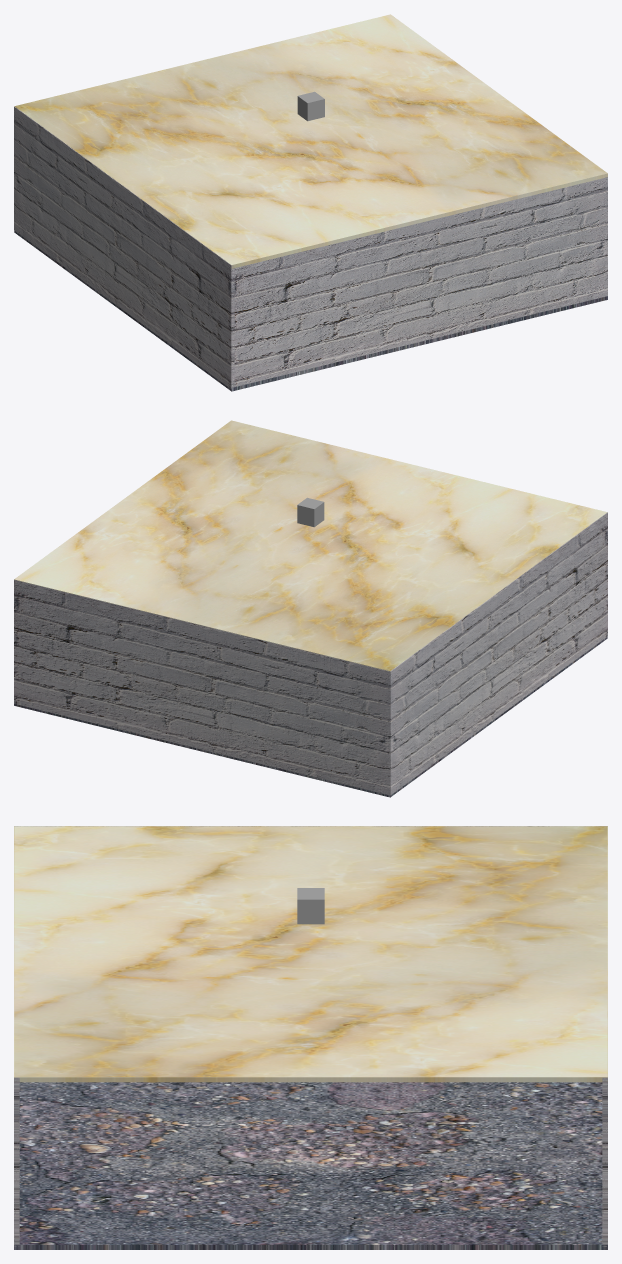
Rendered from game.fbx.
3 views of the same model, one above another, from view 1: azimuth 30°, elevation 25°; view 2: azimuth 150°, elevation 25°; view 3: azimuth 270°, elevation 25° (orthographic). The views are drawn at different scales.
Visible parts, largest first — view 1: testRoomRoof, testRoomSouthWall, testRoomEastWall, testRoomFloor, characterMesh; view 2: testRoomRoof, testRoomNorthWall, testRoomEastWall, testRoomFloor, characterMesh; view 3: testRoomRoof, testRoomFloor, characterMesh, testRoomNorthWall, testRoomSouthWall, testRoomEastWall.
Boxes of the visible parts, x1,y1,x2,y2 form: testRoomRoof: (14, 14, 607, 268); testRoomSouthWall: (234, 177, 607, 386); testRoomEastWall: (14, 106, 234, 389); testRoomFloor: (14, 231, 607, 391); characterMesh: (297, 91, 324, 121); testRoomRoof: (14, 420, 607, 671); testRoomNorthWall: (14, 580, 390, 795); testRoomEastWall: (390, 512, 607, 795); testRoomFloor: (14, 637, 607, 797); characterMesh: (297, 497, 324, 527); testRoomRoof: (14, 826, 607, 1082); testRoomFloor: (14, 1082, 607, 1249); characterMesh: (297, 888, 324, 924); testRoomNorthWall: (602, 1077, 607, 1246); testRoomSouthWall: (14, 1077, 19, 1246); testRoomEastWall: (14, 826, 607, 826).
Size of the model in its own units: 21.4 by 9.16 by 21.38.
Materials: 4 (3 with a texture image).
